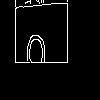O: (25, 25, 47, 73)
